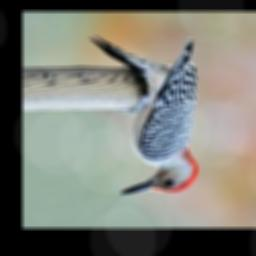Woodpecker: (81, 24, 209, 202)
